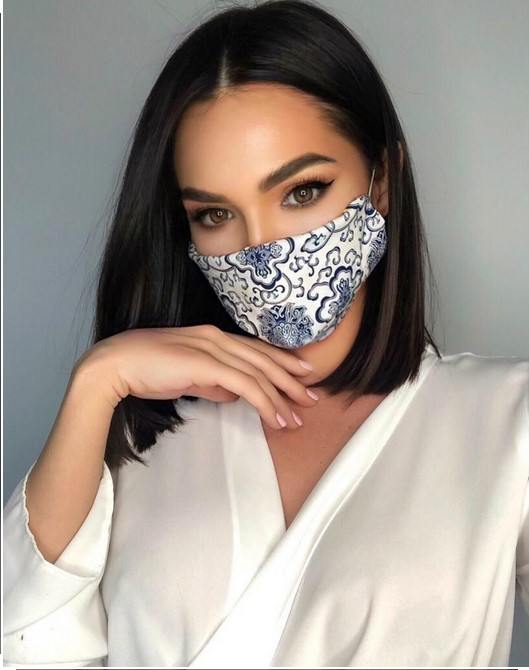face_with_mask: (142, 40, 411, 361)
